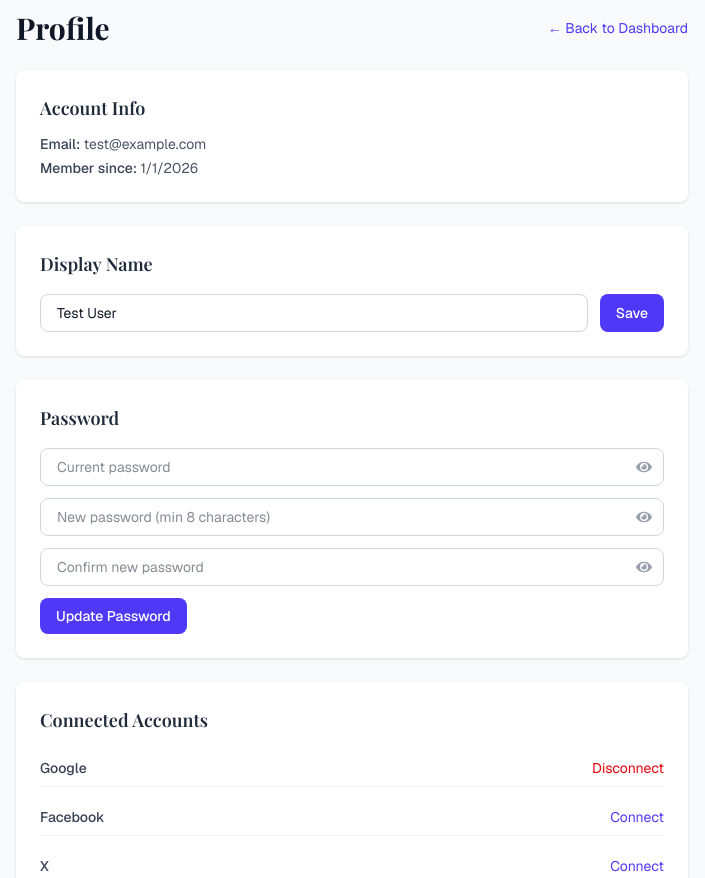
Test: ProfilePage › shows success message after saving display name
Expected: the field with placeholder "Your display name" is shown, [40,294,588,332]
What coordinates should you click on to do the following:
click the button "Save"
I would click on:
 (632, 313)
Its box is [600,294,664,332].
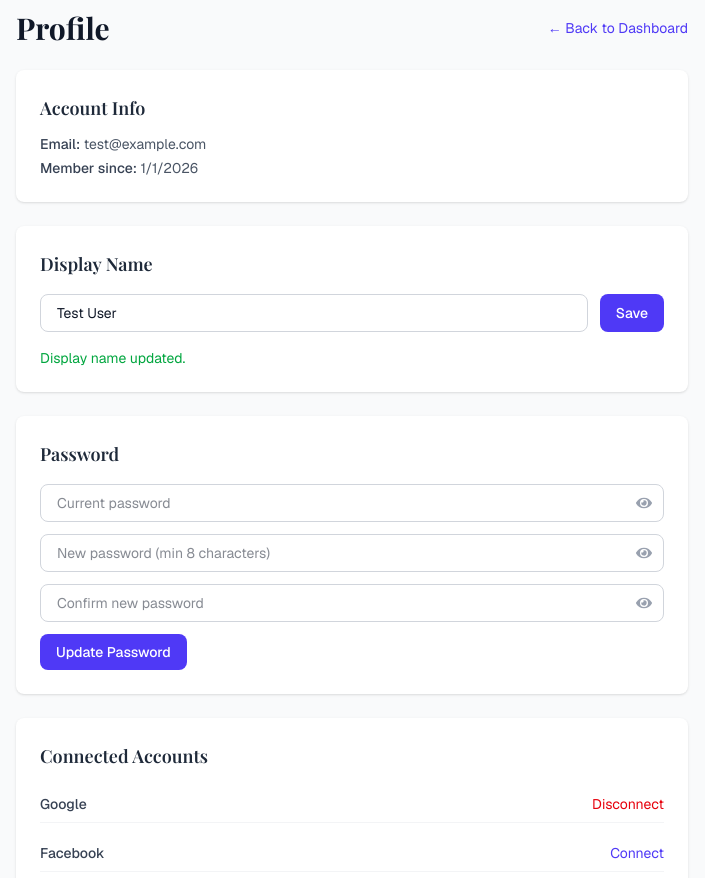
Now the text "Display name updated." is shown, box [40,349,185,367]
